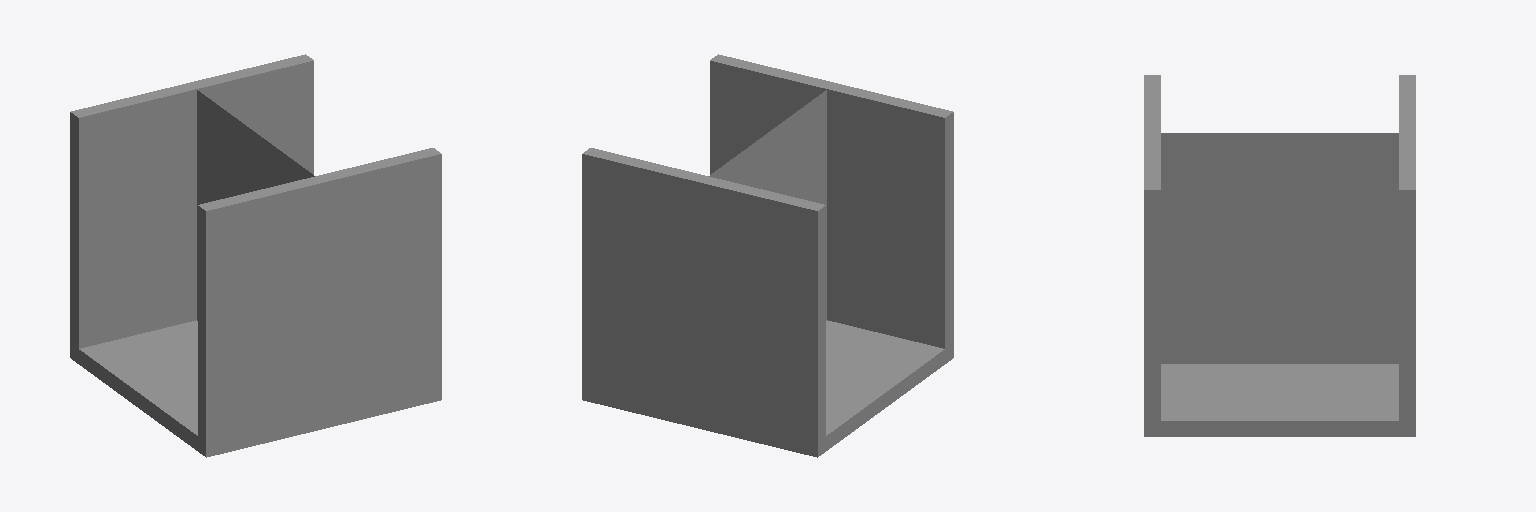
File: sluice.obj
3 renders of one model, left to right at view 1: azimuth 30°, elevation 25°; view 2: azimuth 150°, elevation 25°; view 3: azimuth 270°, elevation 25°, orthographic.
Parts seen in each view (by area): view 1: Cube; view 2: Cube; view 3: Cube.
Boxes of the visible parts, x1,y1,x2,y2 form: Cube: [70, 54, 441, 457]; Cube: [582, 54, 953, 457]; Cube: [1144, 75, 1415, 436].
Size of the model in its own units: 1 by 1 by 1.